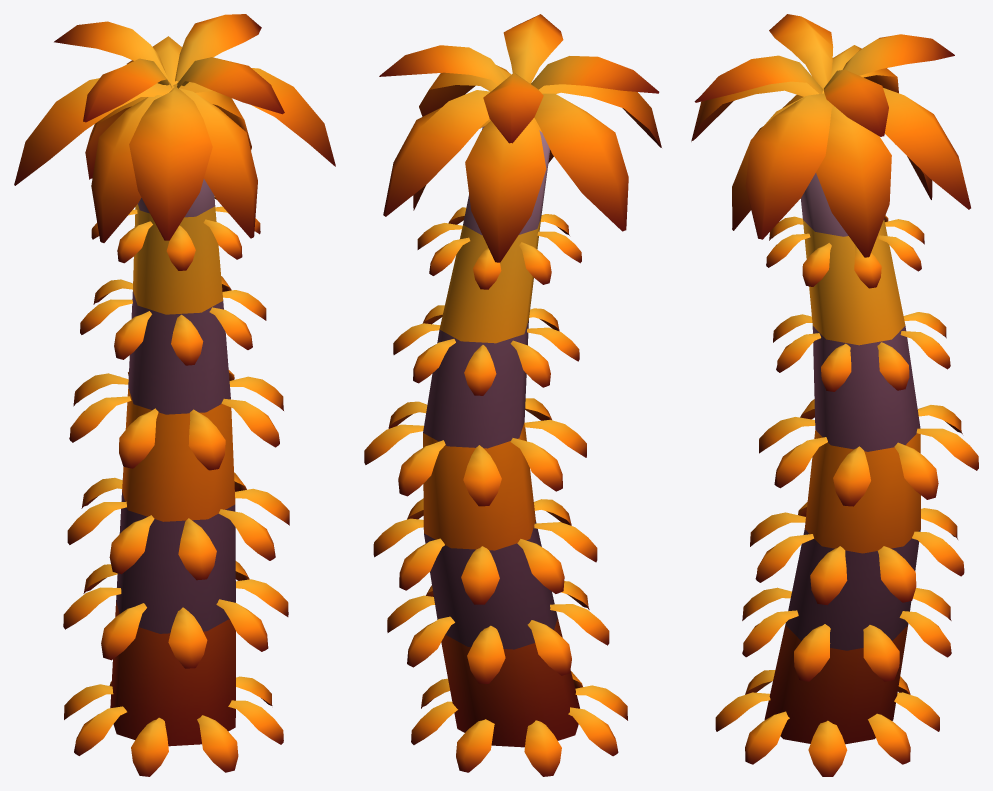
The model's file is wp_noPot_25.fbx.
3 views of the same model, side by side, from view 1: azimuth 30°, elevation 25°; view 2: azimuth 150°, elevation 25°; view 3: azimuth 270°, elevation 25° (orthographic).
Parts seen in each view (by area): view 1: w_pl25.003; view 2: w_pl25.003; view 3: w_pl25.003.
Part boxes in pixels (bbox=[...]): w_pl25.003: bbox=[14, 14, 335, 776]; w_pl25.003: bbox=[364, 14, 661, 776]; w_pl25.003: bbox=[691, 14, 978, 776].
Size of the model in its own units: 106 by 266 by 102.
